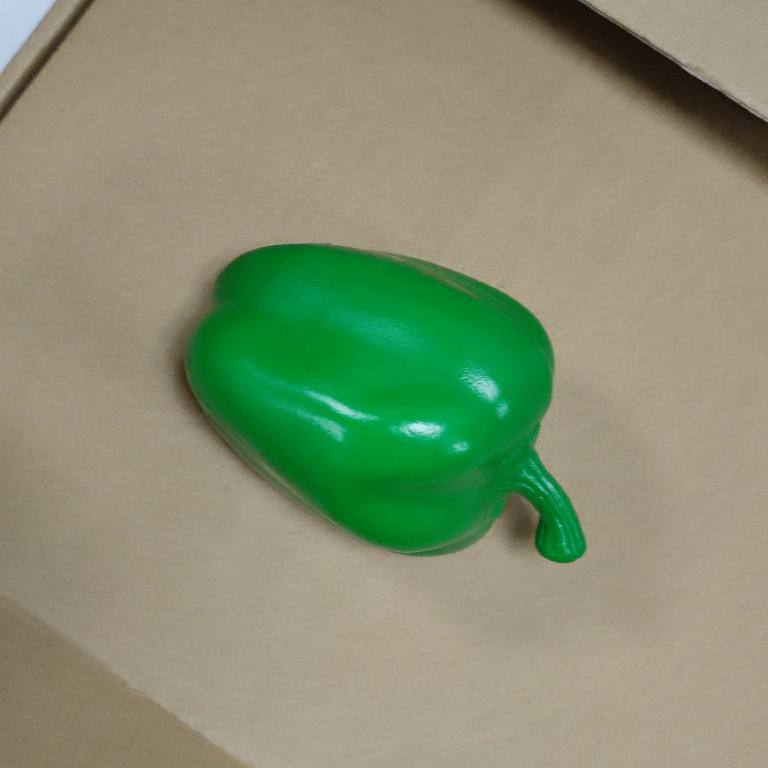fruit_pepper: (172, 234, 590, 574)
